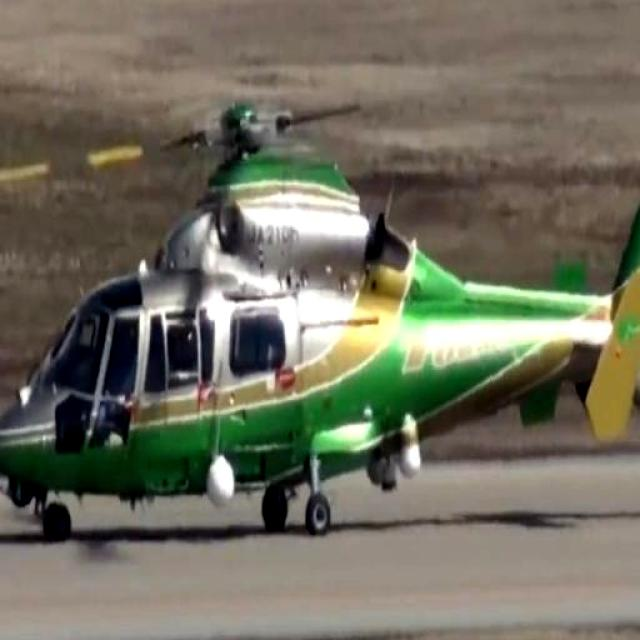drone: (0, 0, 640, 559)
